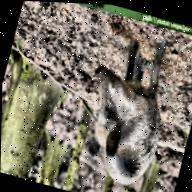boar: (65, 30, 187, 192)
